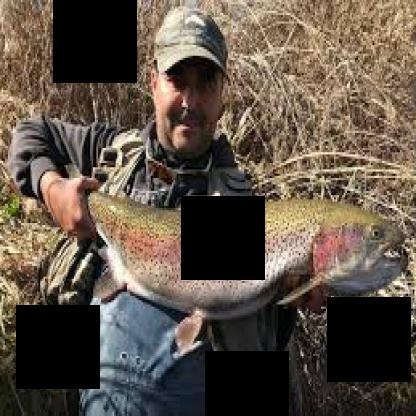fish: (44, 172, 407, 348)
